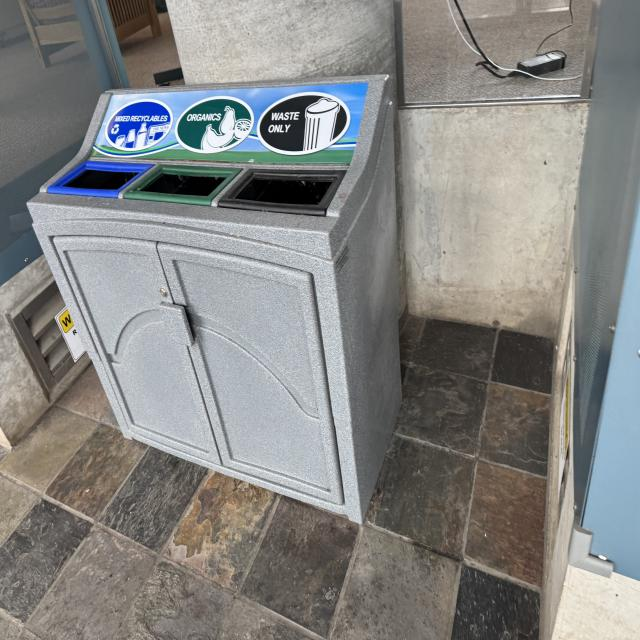Dustbin: (26, 73, 402, 527)
